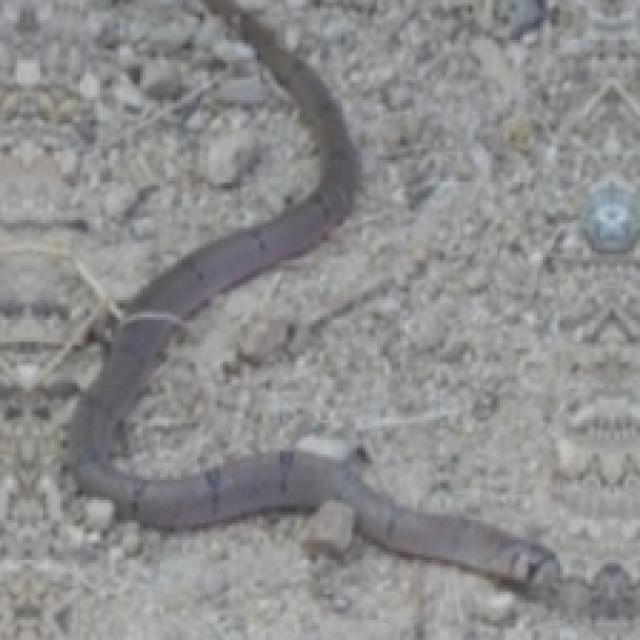northern short-headed snake: (71, 0, 557, 594)
